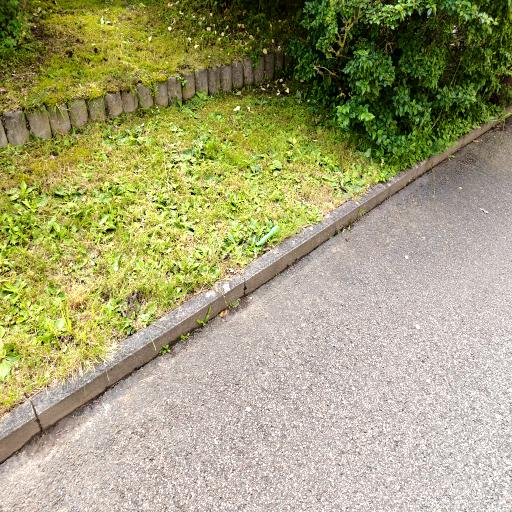Probe-Detection: (257, 225, 279, 246)
